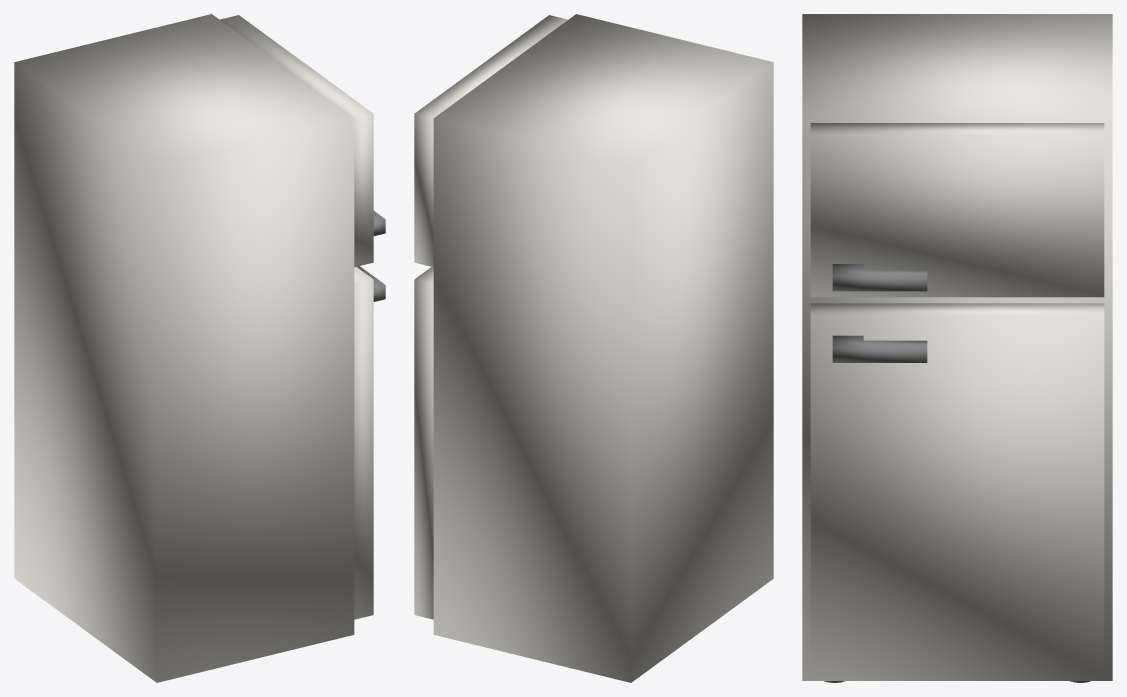
Rendered from Frigorifico.fbx.
3 renders of one model, left to right at view 1: azimuth 30°, elevation 25°; view 2: azimuth 150°, elevation 25°; view 3: azimuth 270°, elevation 25°, orthographic. The views are drawn at different scales.
Parts seen in each view (by area): view 1: MainBody, Bot, Top; view 2: MainBody, Bot, Top; view 3: Bot, Top, MainBody, Mango.1, Mango.002.
Boxes of the visible parts, x1,y1,x2,y2 form: MainBody: (14,14,354,682); Bot: (354,267,373,619); Top: (220,15,373,267); MainBody: (433,14,773,682); Bot: (414,267,433,619); Top: (414,15,567,267); Bot: (810,303,1104,680); Top: (810,123,1104,297); MainBody: (802,14,1112,680); Mango.1: (832,335,927,362); Mango.002: (832,264,927,291).
Bounding box in the file's own units: 98.31 × 202 × 100.
